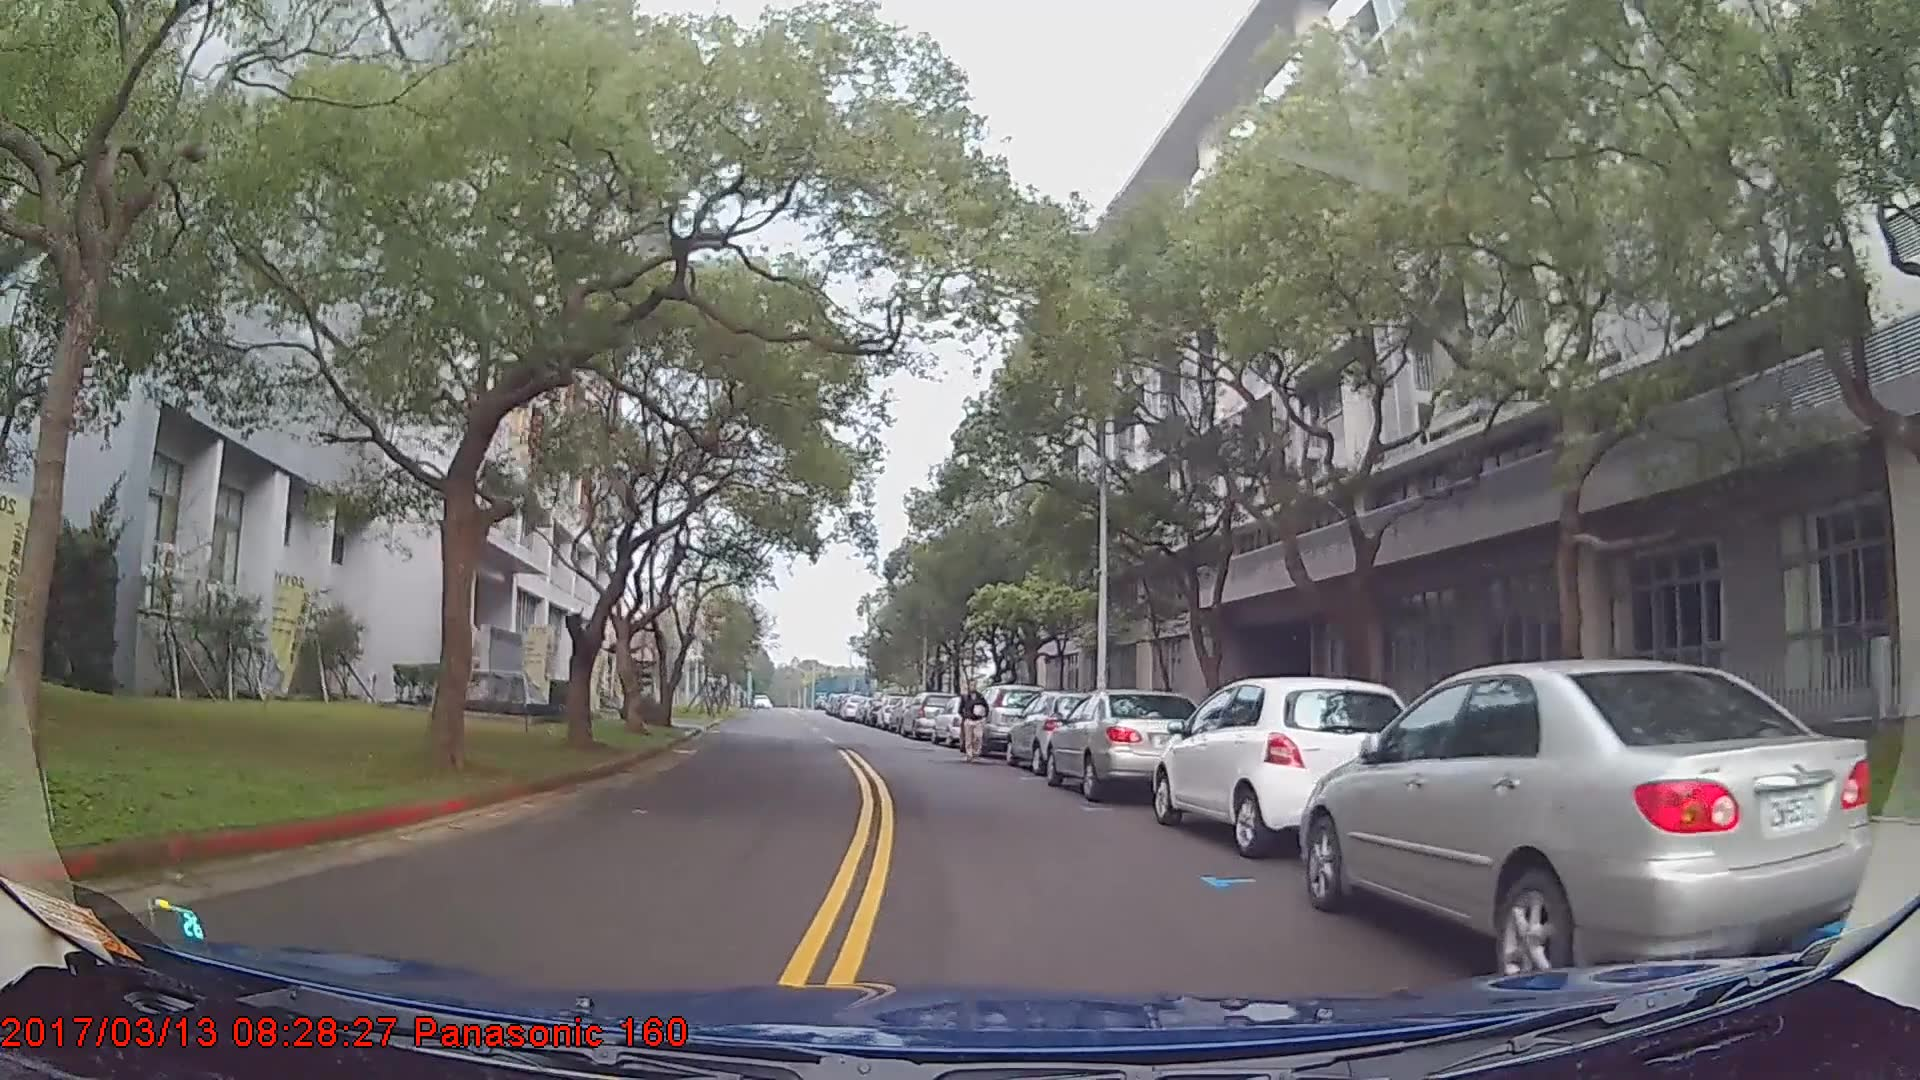pedestrian: (959, 676, 992, 760)
vehicle: (1294, 656, 1870, 994), (1152, 671, 1415, 856), (1045, 689, 1210, 798), (1006, 686, 1119, 773), (970, 683, 1044, 755), (900, 691, 956, 738)
